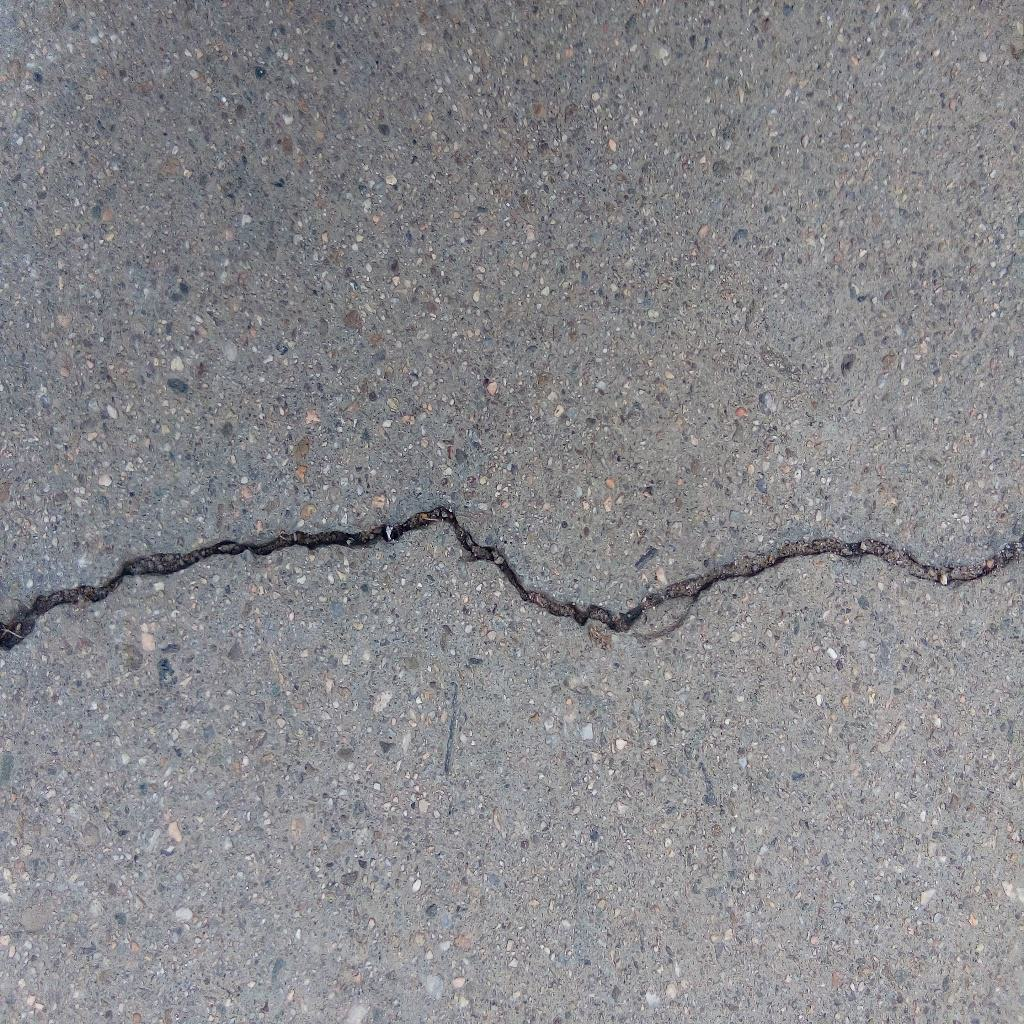Crack: (1, 503, 1024, 651)
